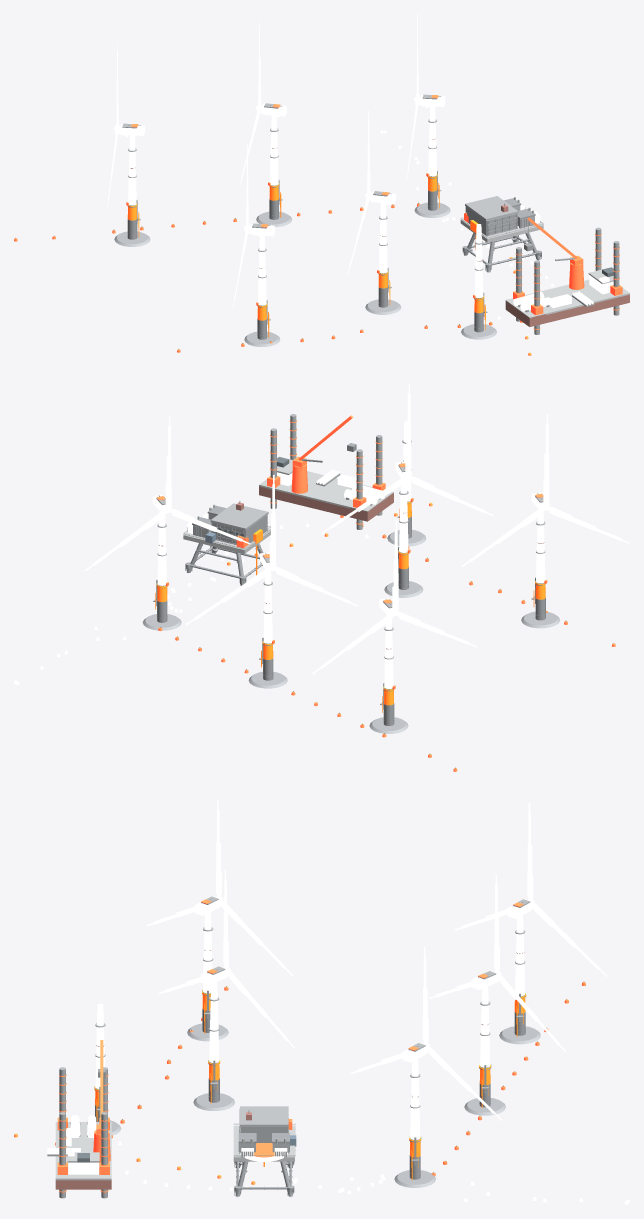
The model's file is windfarm.glb.
3 views of the same model, one above another, from view 1: azimuth 30°, elevation 25°; view 2: azimuth 150°, elevation 25°; view 3: azimuth 270°, elevation 25° (orthographic). The views are drawn at different scales.
Visible parts, largest first — view 1: fleet/mat_ffffff_17, structure/gray, fleet/galv, fleet/hiVis, fleet/mat_dde3e5_1, fleet/steel2, fleet/mat_ffd80b_5, fleet/mat_bb5b4d_10, structure/steel2, structure/roof, structure/clad, structure/mat_dde3e5_1; view 2: fleet/mat_ffffff_17, structure/gray, fleet/galv, fleet/hiVis, fleet/mat_dde3e5_1, fleet/fleet_m22/mat_ffffff_0, fleet/fleet_m23/mat_ffffff_0, fleet/fleet_m16/mat_ffffff_0, fleet/fleet_m17/mat_ffffff_0, fleet/fleet_m18/mat_ffffff_0, fleet/steel2, fleet/mat_bb5b4d_10 (+5 smaller); view 3: fleet/mat_ffffff_17, structure/gray, fleet/galv, fleet/hiVis, fleet/mat_dde3e5_1, fleet/fleet_m18/mat_ffffff_0, fleet/steel2, fleet/fleet_m16/mat_ffffff_0, fleet/mat_ffd80b_5, fleet/fleet_m22/mat_ffffff_0, fleet/fleet_m17/mat_ffffff_0, fleet/fleet_m23/mat_ffffff_0 (+5 smaller).
Boxes of the visible parts, bbox=[...] form: fleet/mat_ffffff_17: bbox=[119, 95, 571, 311]; structure/gray: bbox=[114, 202, 534, 346]; fleet/galv: bbox=[122, 94, 619, 334]; fleet/hiVis: bbox=[126, 95, 622, 329]; fleet/mat_dde3e5_1: bbox=[505, 269, 629, 318]; fleet/steel2: bbox=[127, 190, 483, 339]; fleet/mat_ffd80b_5: bbox=[127, 174, 485, 337]; fleet/mat_bb5b4d_10: bbox=[505, 294, 629, 326]; structure/steel2: bbox=[462, 233, 541, 272]; structure/roof: bbox=[465, 196, 518, 220]; structure/clad: bbox=[465, 206, 517, 235]; structure/mat_dde3e5_1: bbox=[460, 219, 543, 242]; fleet/mat_ffffff_17: bbox=[152, 421, 549, 688]; structure/gray: bbox=[142, 513, 559, 733]; fleet/galv: bbox=[153, 414, 545, 709]; fleet/hiVis: bbox=[156, 415, 547, 689]; fleet/mat_dde3e5_1: bbox=[259, 459, 393, 512]; fleet/fleet_m22/mat_ffffff_0: bbox=[461, 414, 629, 566]; fleet/fleet_m23/mat_ffffff_0: bbox=[321, 384, 493, 533]; fleet/fleet_m16/mat_ffffff_0: bbox=[312, 520, 477, 674]; fleet/fleet_m17/mat_ffffff_0: bbox=[186, 474, 358, 624]; fleet/fleet_m18/mat_ffffff_0: bbox=[85, 416, 250, 570]; fleet/steel2: bbox=[157, 516, 545, 725]; fleet/mat_bb5b4d_10: bbox=[259, 486, 393, 521]; fleet/mat_ffffff_17: bbox=[66, 896, 532, 1146]; structure/gray: bbox=[86, 1023, 540, 1187]; fleet/galv: bbox=[47, 896, 530, 1198]; fleet/hiVis: bbox=[57, 899, 523, 1192]; fleet/mat_dde3e5_1: bbox=[55, 1122, 111, 1180]; fleet/fleet_m18/mat_ffffff_0: bbox=[350, 946, 502, 1120]; fleet/steel2: bbox=[95, 1009, 525, 1179]; fleet/fleet_m16/mat_ffffff_0: bbox=[454, 803, 607, 976]; fleet/mat_ffd80b_5: bbox=[94, 990, 526, 1180]; fleet/fleet_m22/mat_ffffff_0: bbox=[146, 800, 292, 975]; fleet/fleet_m17/mat_ffffff_0: bbox=[429, 875, 566, 1052]; fleet/fleet_m23/mat_ffffff_0: bbox=[159, 870, 294, 1048].
Bounding box in the file's own units: 374 × 179 × 442.
Materials: 20 (2 with a texture image).
